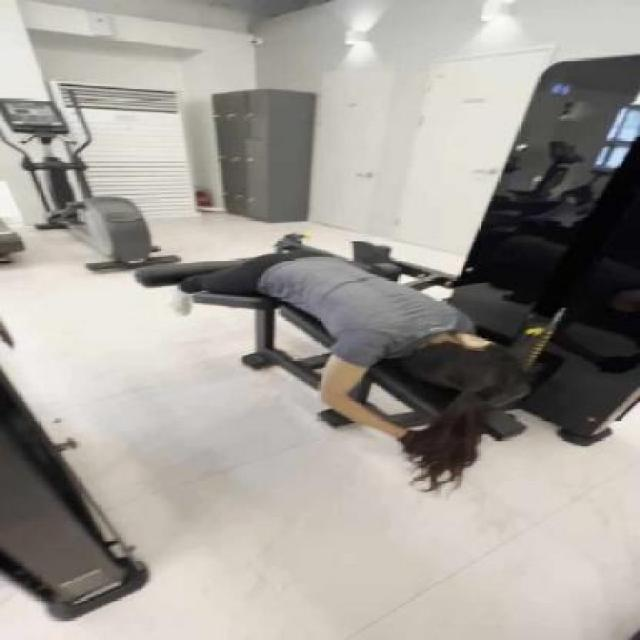reg curl machine: (117, 54, 640, 497)
